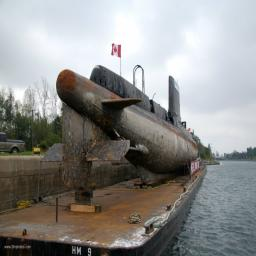submarine: (49, 63, 254, 195)
